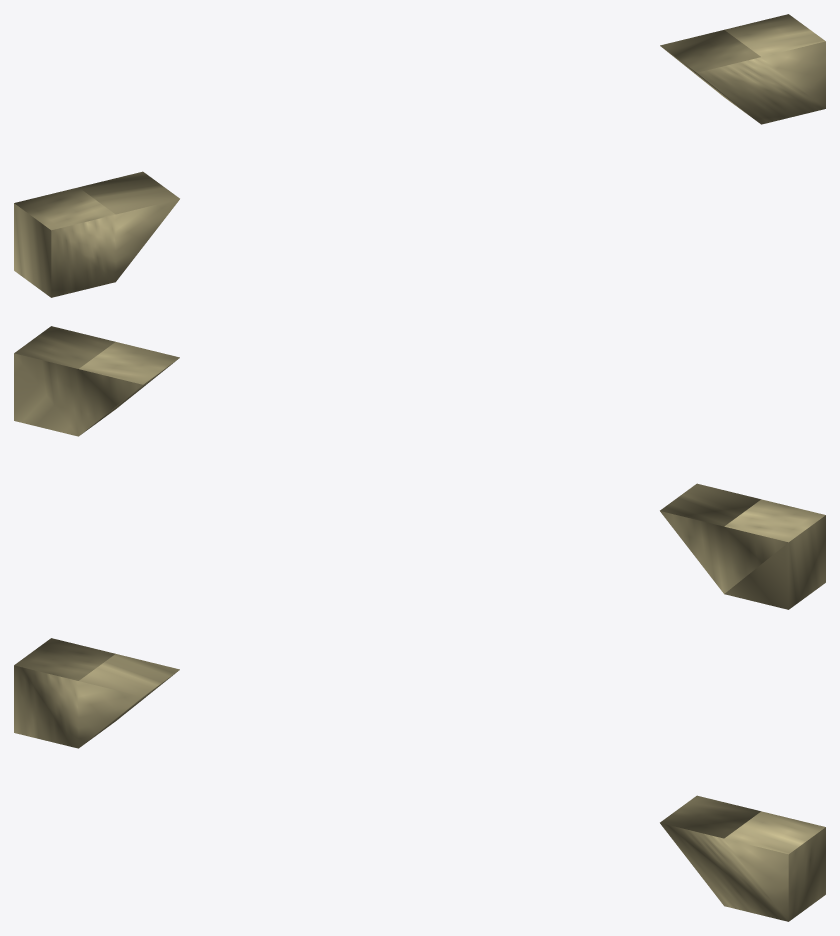
3 views of the same model, one above another, from view 1: azimuth 30°, elevation 25°; view 2: azimuth 150°, elevation 25°; view 3: azimuth 330°, elevation 25° (orthographic).
Bounding box in the file's own units: 2.04 × 0.17 × 0.17.
Materials: 1 (1 with a texture image).
